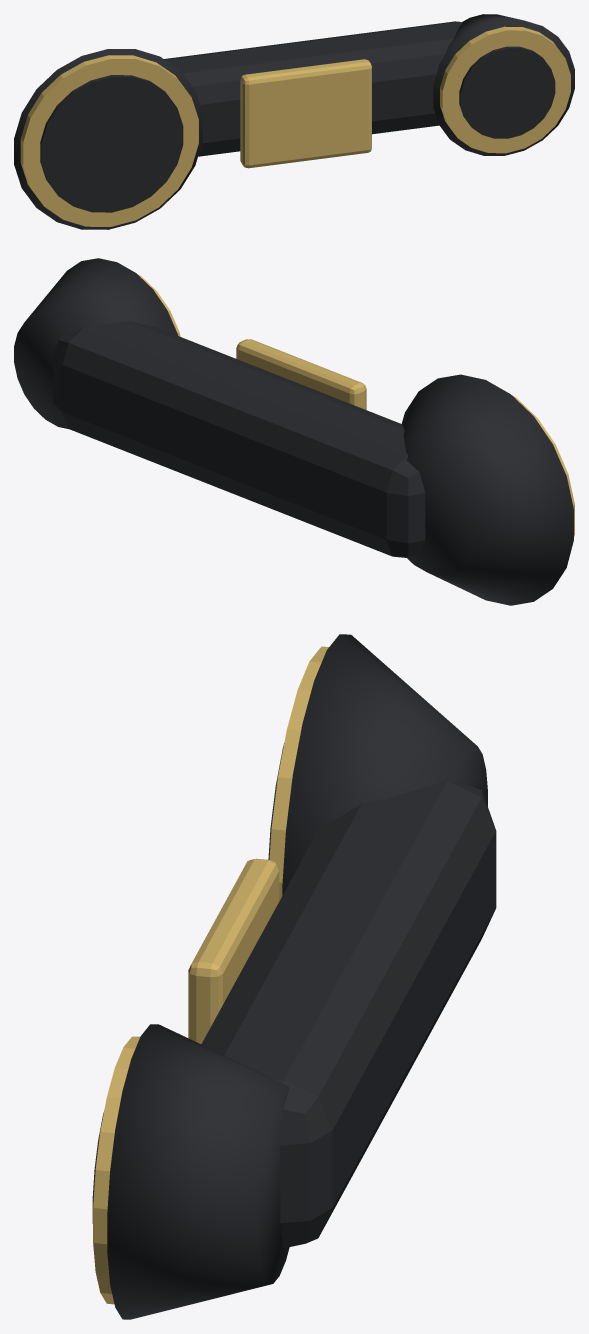
File: handset.glb
The picture shows the model from 3 angles, top to bottom: view 1: azimuth 30°, elevation 25°; view 2: azimuth 150°, elevation 25°; view 3: azimuth 270°, elevation 25°; orthographic projection. The views are drawn at different scales.
Parts seen in each view (by area): view 1: mta_hand_bar, mta_hand_mesh_0, mta_hand_band, mta_hand_grille_0, mta_hand_mesh_1, mta_hand_grille_1, mta_hand_cup_0, mta_hand_cup_1; view 2: mta_hand_bar, mta_hand_cup_0, mta_hand_cup_1, mta_hand_band; view 3: mta_hand_bar, mta_hand_cup_1, mta_hand_cup_0, mta_hand_band, mta_hand_grille_1, mta_hand_grille_0.
Part boxes in pixels (x1=…): mta_hand_bar: x1=164, y1=21, x2=462, y2=156; mta_hand_mesh_0: x1=40, y1=75, x2=183, y2=212; mta_hand_band: x1=240, y1=59, x2=371, y2=168; mta_hand_grille_0: x1=20, y1=55, x2=198, y2=226; mta_hand_mesh_1: x1=459, y1=46, x2=555, y2=138; mta_hand_grille_1: x1=440, y1=26, x2=570, y2=153; mta_hand_cup_0: x1=14, y1=49, x2=202, y2=229; mta_hand_cup_1: x1=433, y1=14, x2=574, y2=155; mta_hand_bar: x1=53, y1=321, x2=425, y2=557; mta_hand_cup_0: x1=401, y1=374, x2=573, y2=605; mta_hand_cup_1: x1=14, y1=258, x2=178, y2=428; mta_hand_band: x1=236, y1=339, x2=366, y2=409; mta_hand_bar: x1=201, y1=780, x2=496, y2=1247; mta_hand_cup_1: x1=107, y1=1024, x2=289, y2=1319; mta_hand_cup_0: x1=282, y1=634, x2=487, y2=895; mta_hand_band: x1=188, y1=858, x2=279, y2=1043; mta_hand_grille_1: x1=93, y1=1036, x2=139, y2=1304; mta_hand_grille_0: x1=269, y1=646, x2=328, y2=900.
Size of the model in its own units: 0.1603 by 0.056 by 0.0566.
